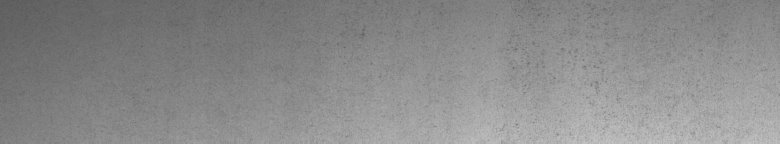ib: (507, 8, 608, 93)
